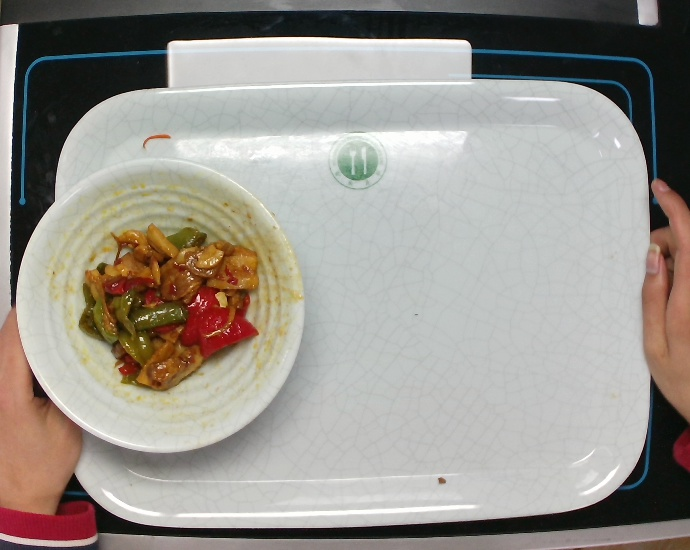JYsf-Xiao_Tang_Wan: (11, 153, 311, 459)
